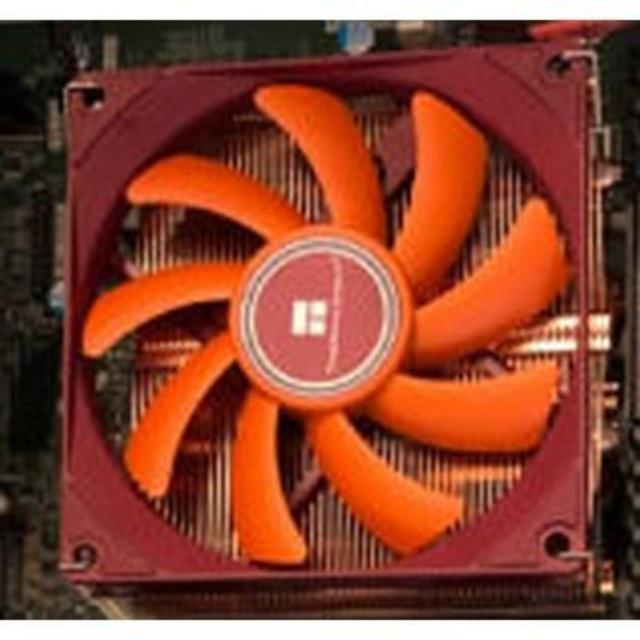CPU_Fan: (49, 60, 588, 608)
